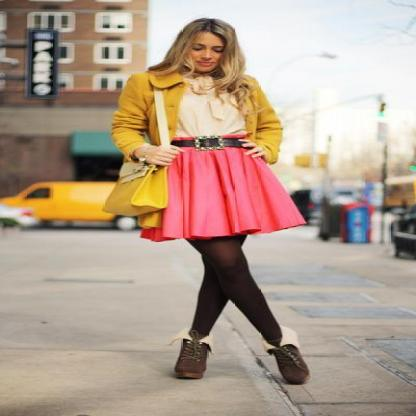bag: (88, 91, 186, 224)
jacket: (111, 71, 282, 174)
shirt: (179, 76, 246, 138)
shoe: (172, 327, 308, 384)
skirt: (162, 142, 305, 240)
